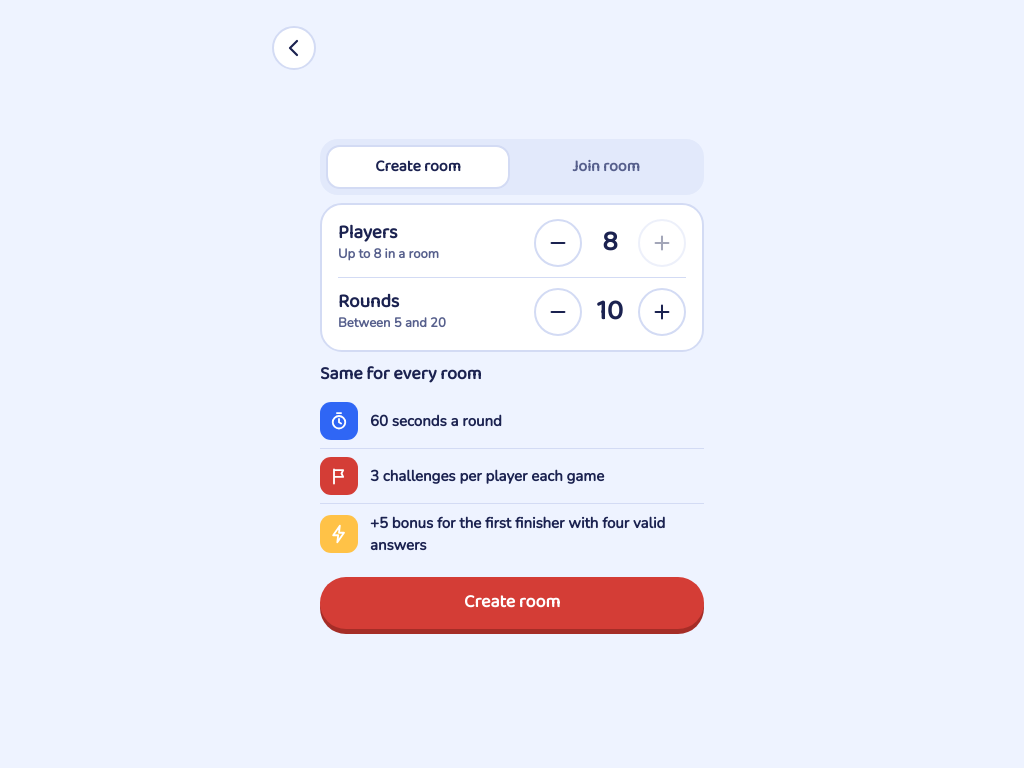
Scenario: create a room › the steppers change the settings and the room is created with them
Expected: the text with test id "players-value" reads "8", [602,220,618,265]
Expected: the button named "More players" is disabled, [638,219,686,267]
Click the button named "Fewer players" at (558,243), box [534,219,582,267]
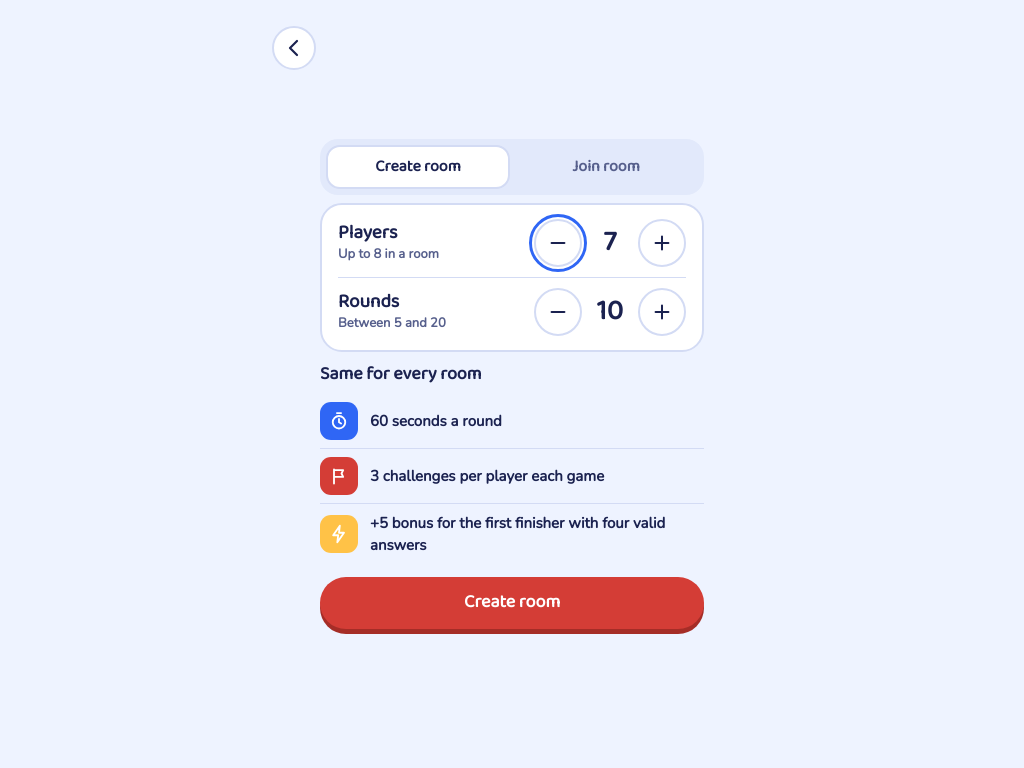
Expected: the text with test id "players-value" reads "7", [604,220,616,265]
Click the button named "Fewer rounds" at (558,312), box [534,288,582,336]
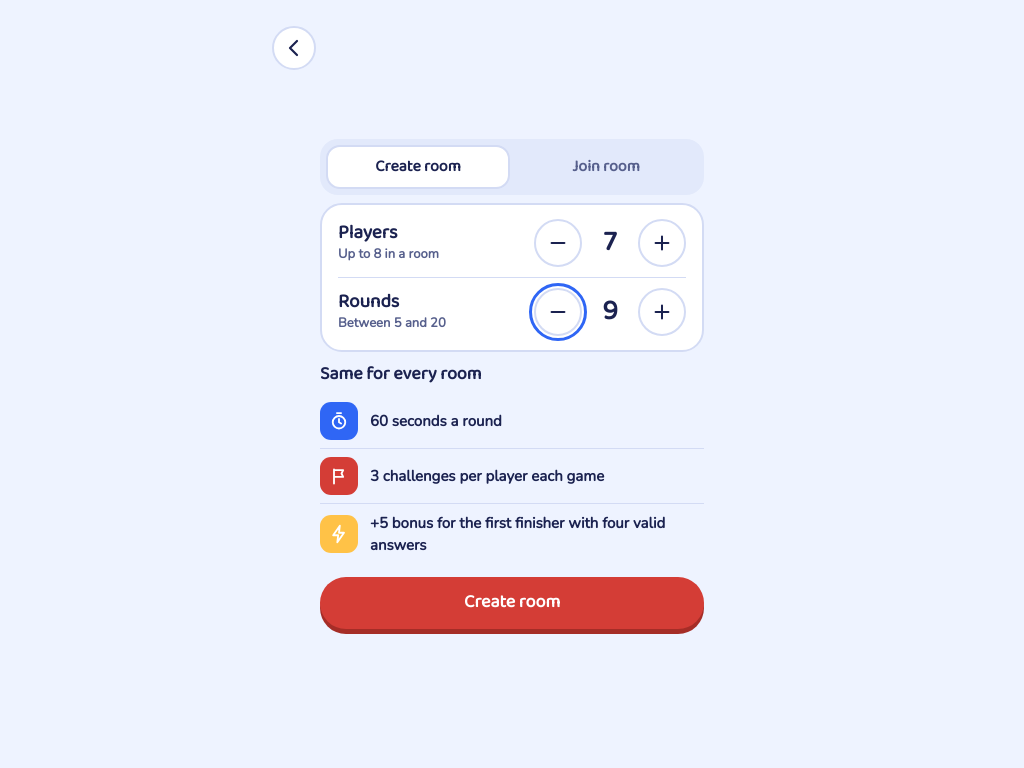
Click the button named "Fewer rounds" at (558,312), box [534,288,582,336]
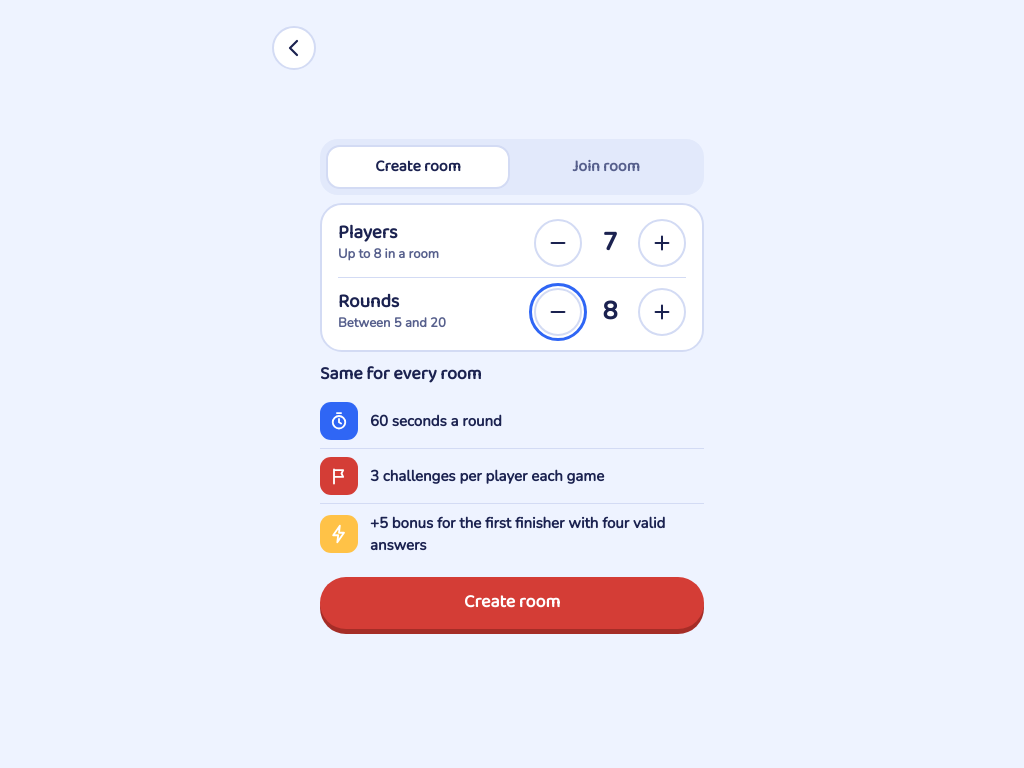
Click the button named "Fewer rounds" at (558,312), box [534,288,582,336]
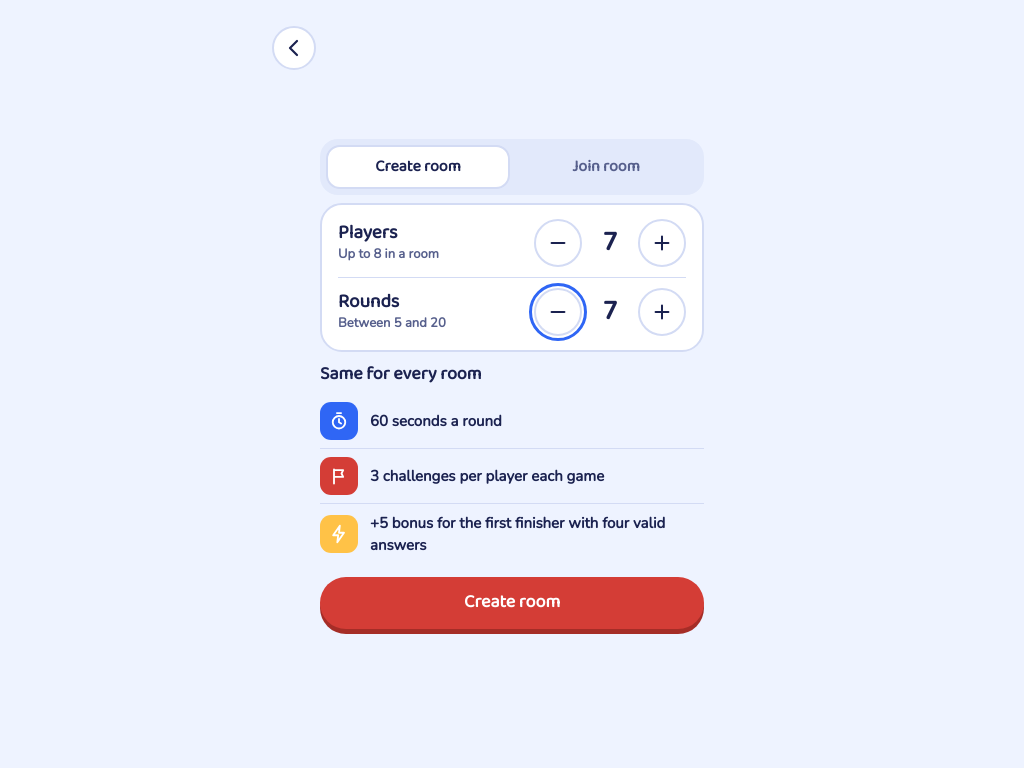
Expected: the text with test id "rounds-value" reads "7", [604,289,616,334]
Click the button "Create room" at (512,603), box [320,577,704,629]
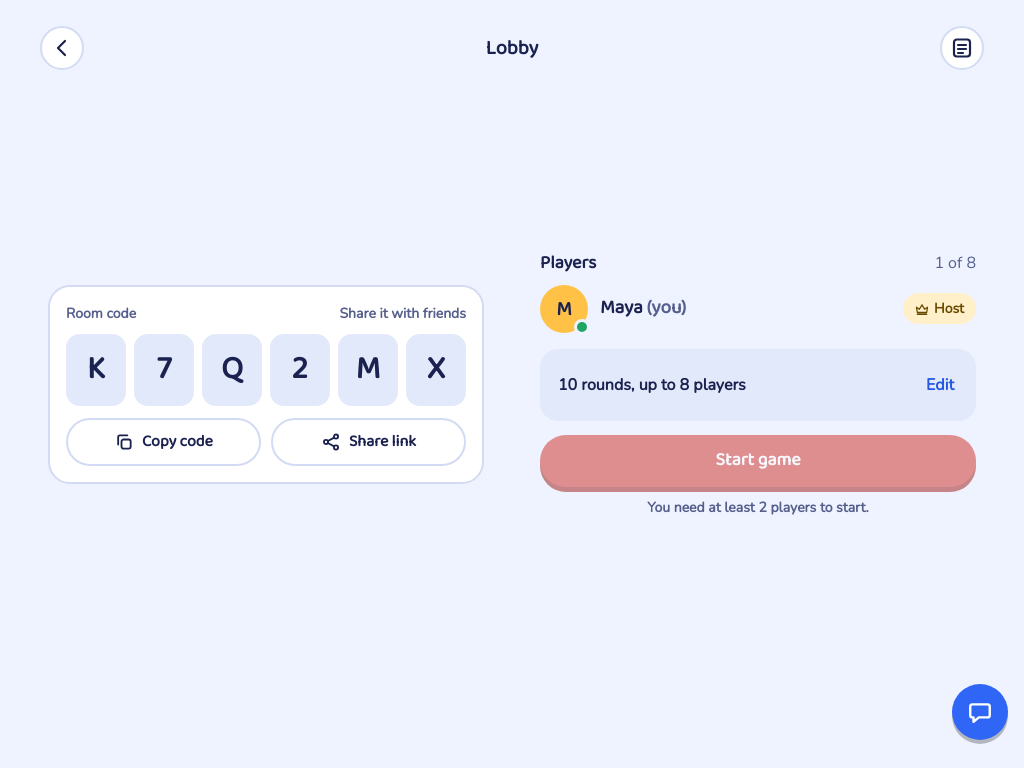
Expected: the heading "Lobby" is shown, [486,36,538,60]
Expected: the picture named "Room code K 7 Q 2 M X" is shown, [66,334,466,406]
